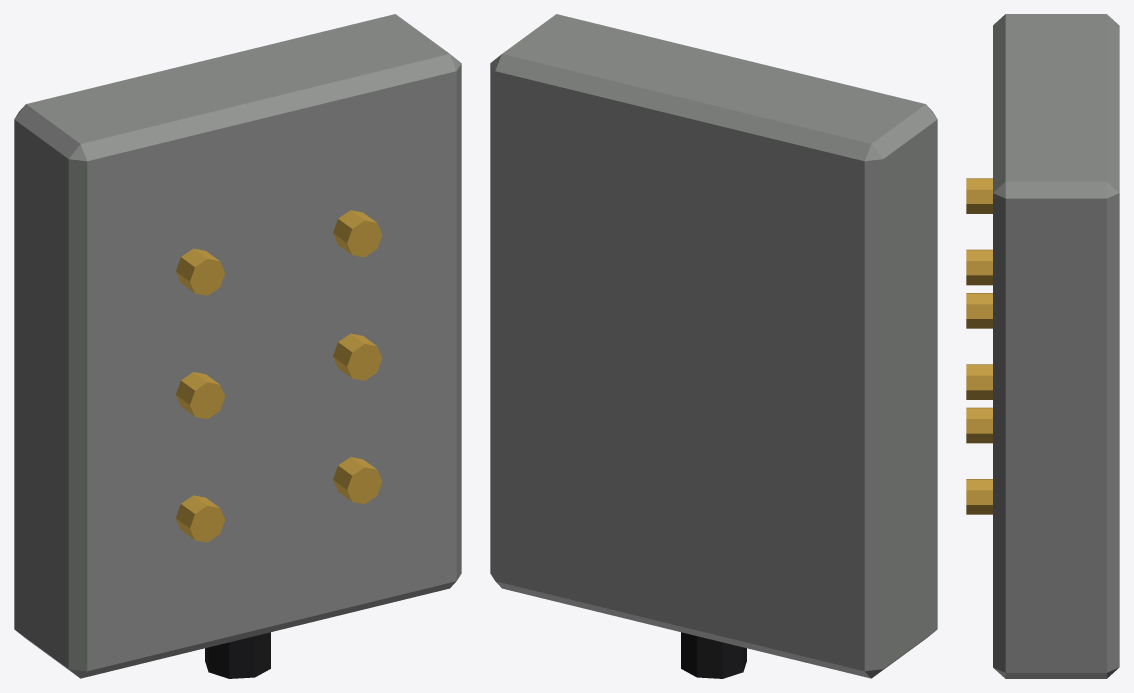
File: install.junction-box.glb
The picture shows the model from 3 angles, left to right: view 1: azimuth 30°, elevation 25°; view 2: azimuth 150°, elevation 25°; view 3: azimuth 270°, elevation 25°; orthographic projection. The views are drawn at different scales.
Parts seen in each view (by area): view 1: base, gland, post11, post21, post0-1, post01, post2-1, post1-1; view 2: base, gland; view 3: base, post01, post2-1, post0-1, post1-1, post11, post21.
Boxes of the visible parts, box(x1,y1,x2,y2) form: base: box(14, 14, 461, 678); gland: box(205, 632, 270, 678); post11: box(333, 333, 382, 380); post21: box(333, 457, 382, 504); post0-1: box(175, 248, 224, 295); post01: box(333, 210, 382, 257); post2-1: box(176, 495, 224, 542); post1-1: box(176, 372, 225, 419); base: box(490, 14, 937, 678); gland: box(681, 632, 746, 678); base: box(993, 14, 1119, 678); post01: box(966, 249, 992, 285); post2-1: box(966, 407, 992, 443); post0-1: box(966, 178, 992, 213); post1-1: box(966, 293, 992, 328); post11: box(966, 364, 992, 399); post21: box(966, 479, 992, 514).
Bounding box in the file's own units: 0.2 × 0.285 × 0.0725.
